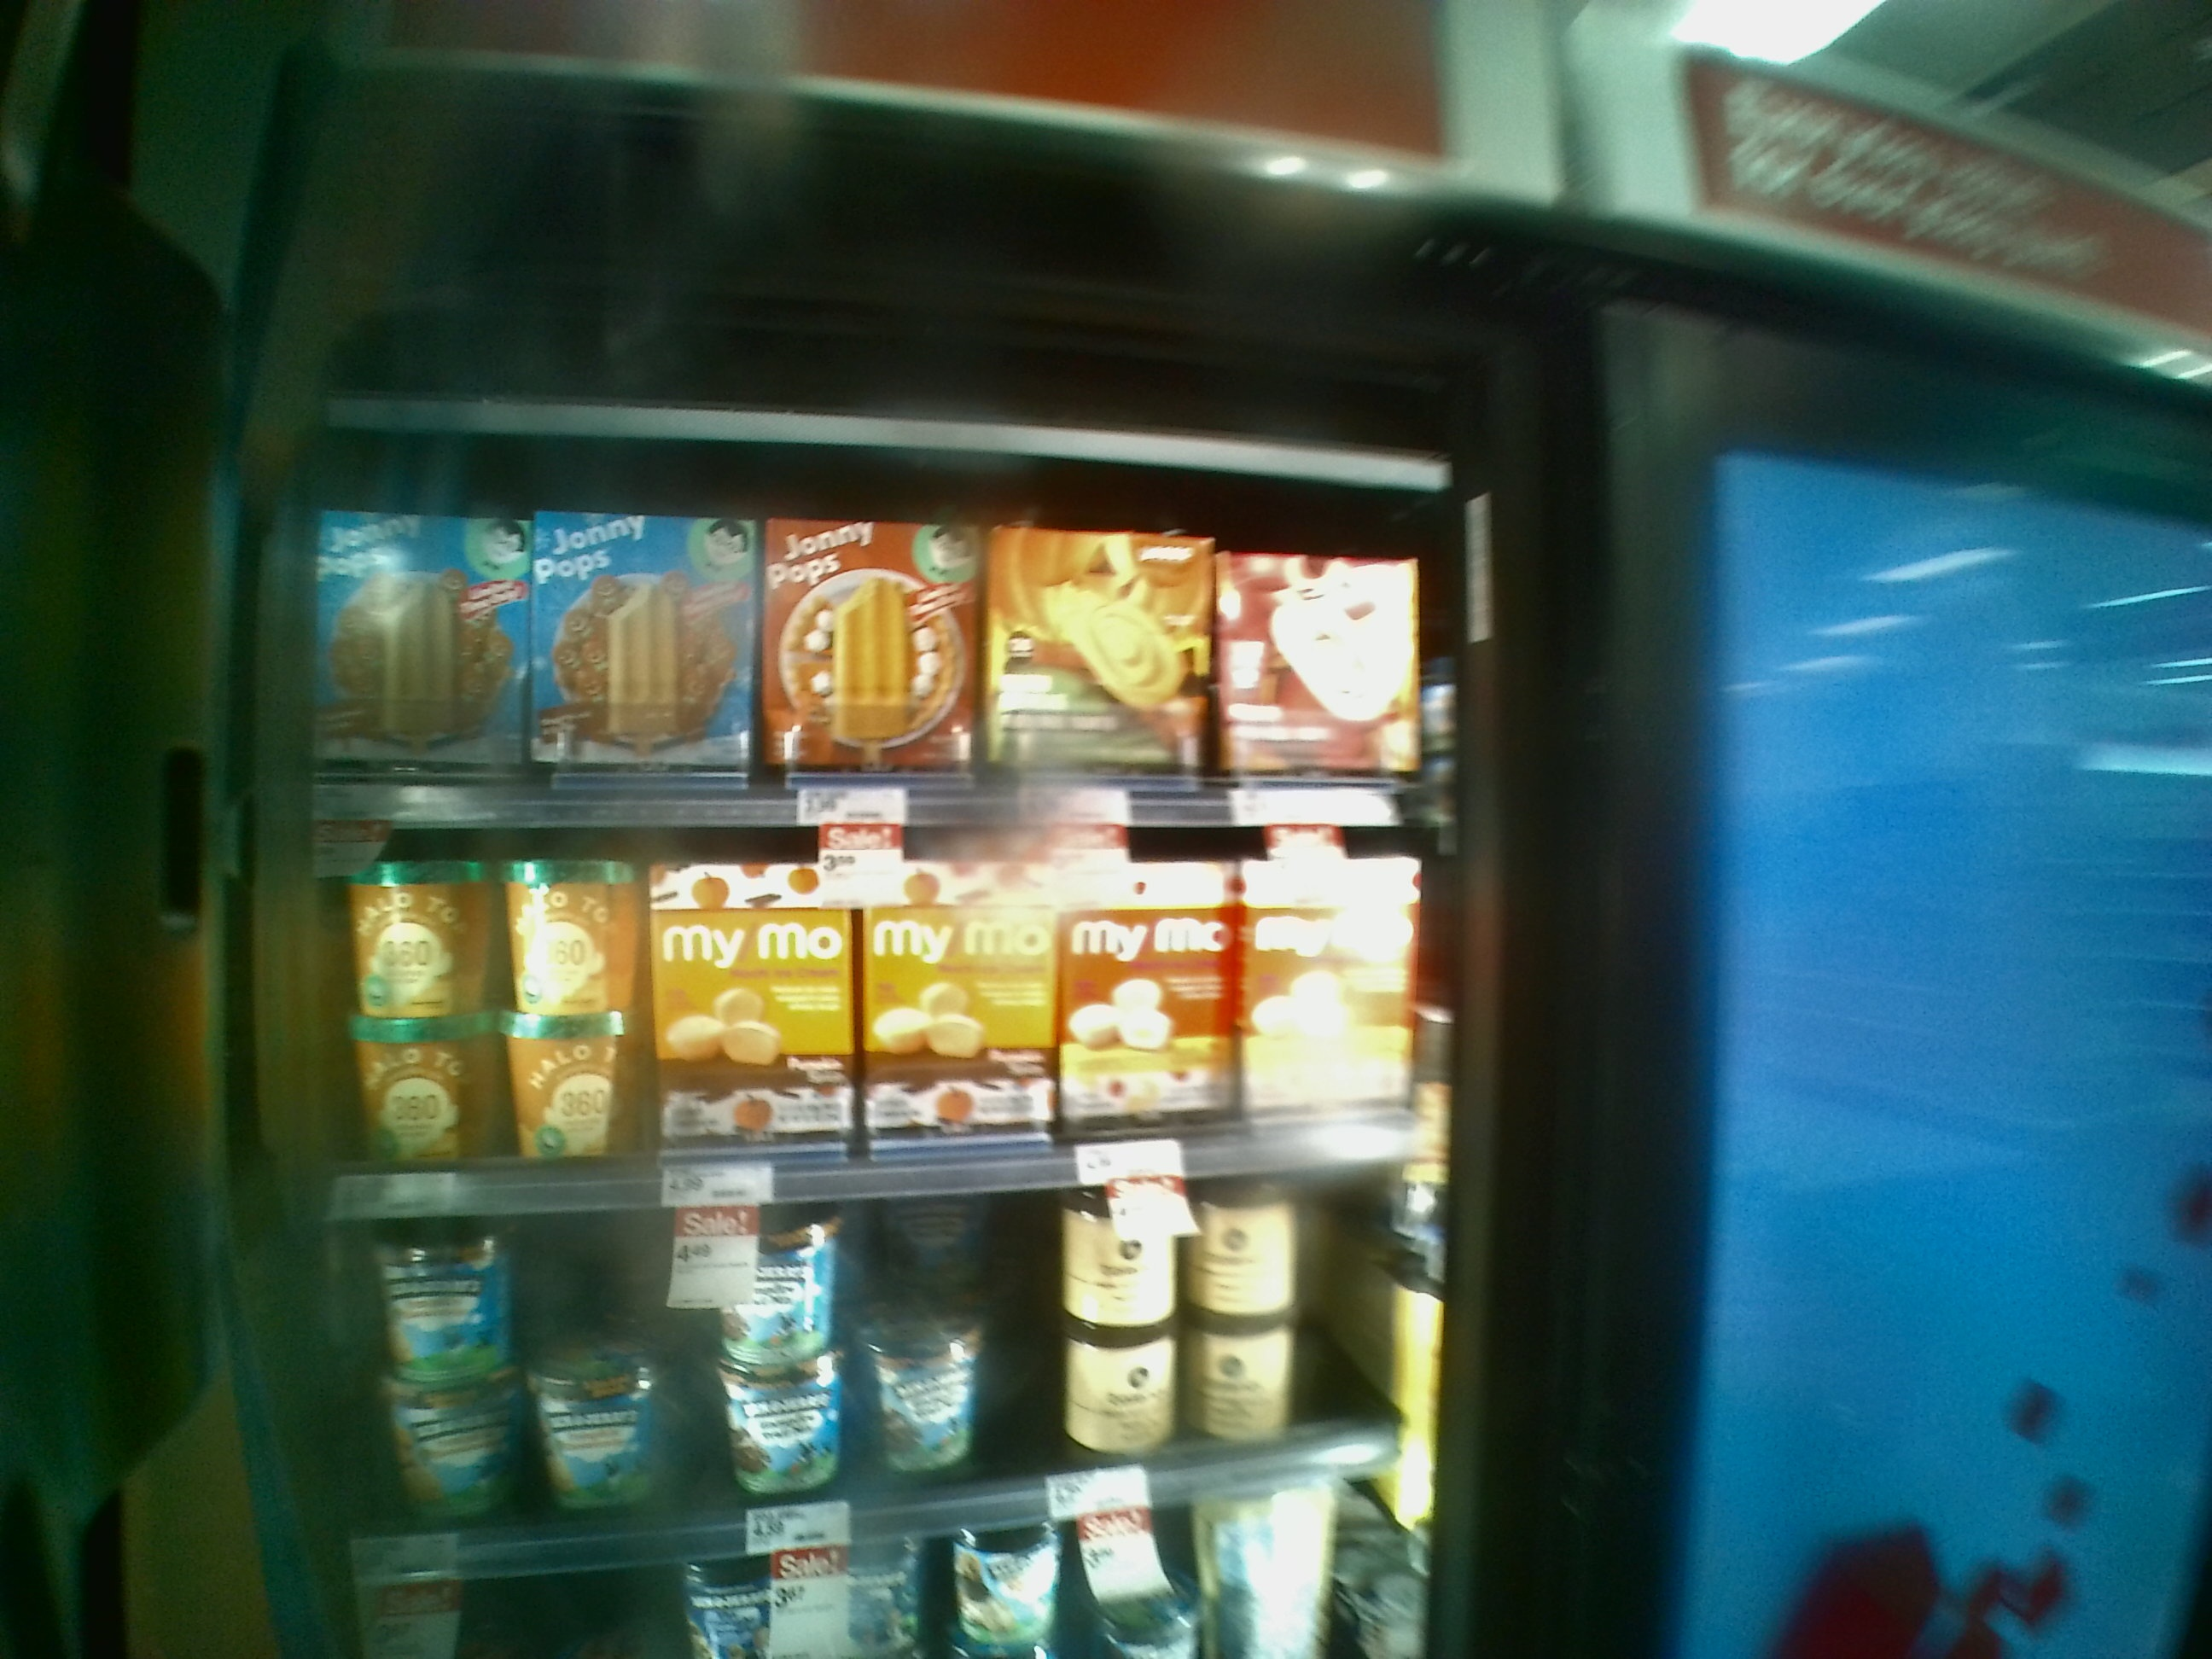shelf: (270, 437, 1456, 826), (265, 817, 1444, 1169), (280, 1190, 1418, 1502)
